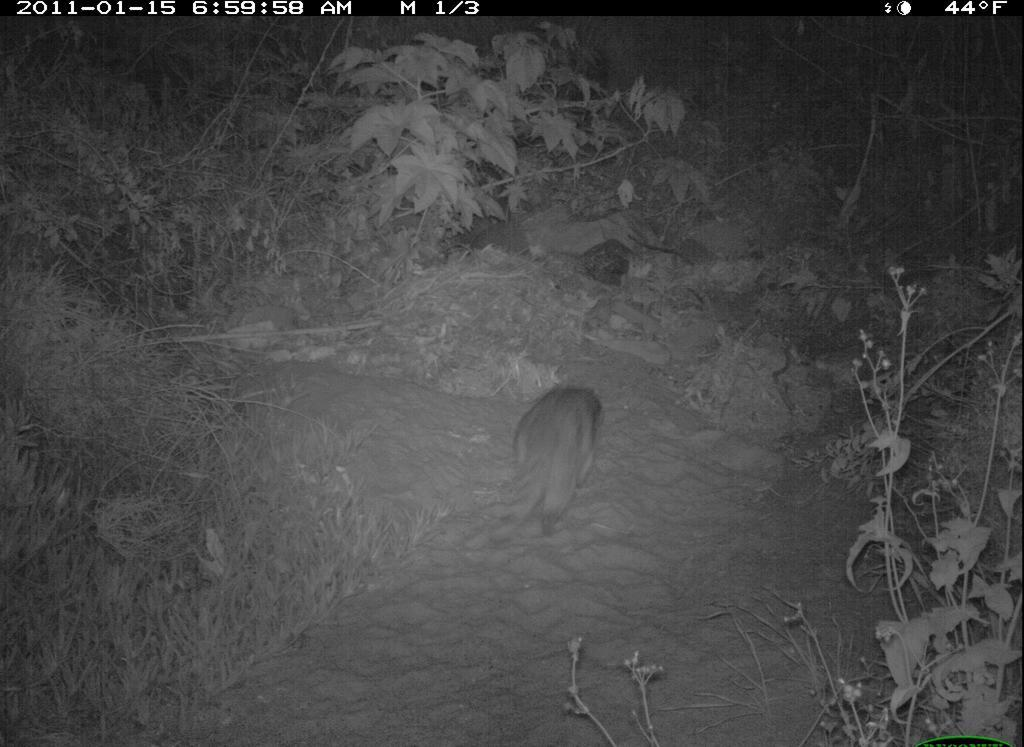raccoon: (475, 361, 623, 569)
